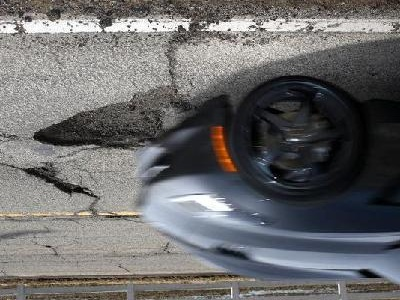pothole: (31, 84, 196, 151), (22, 164, 91, 198)
